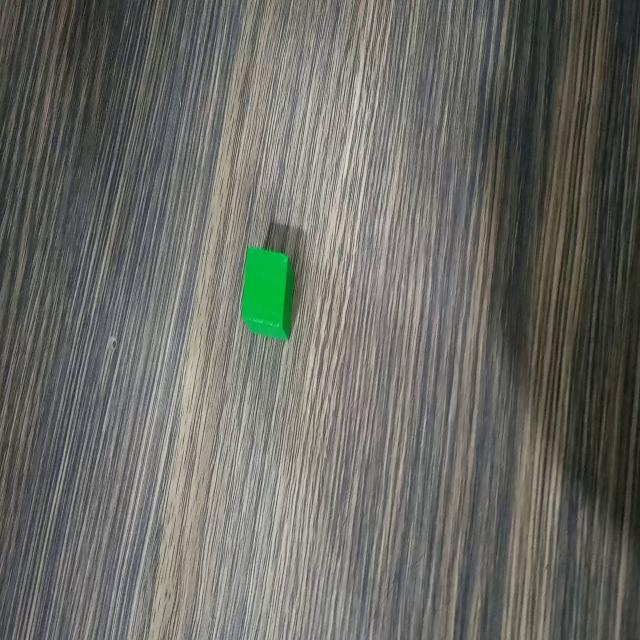cube: (238, 241, 298, 342)
